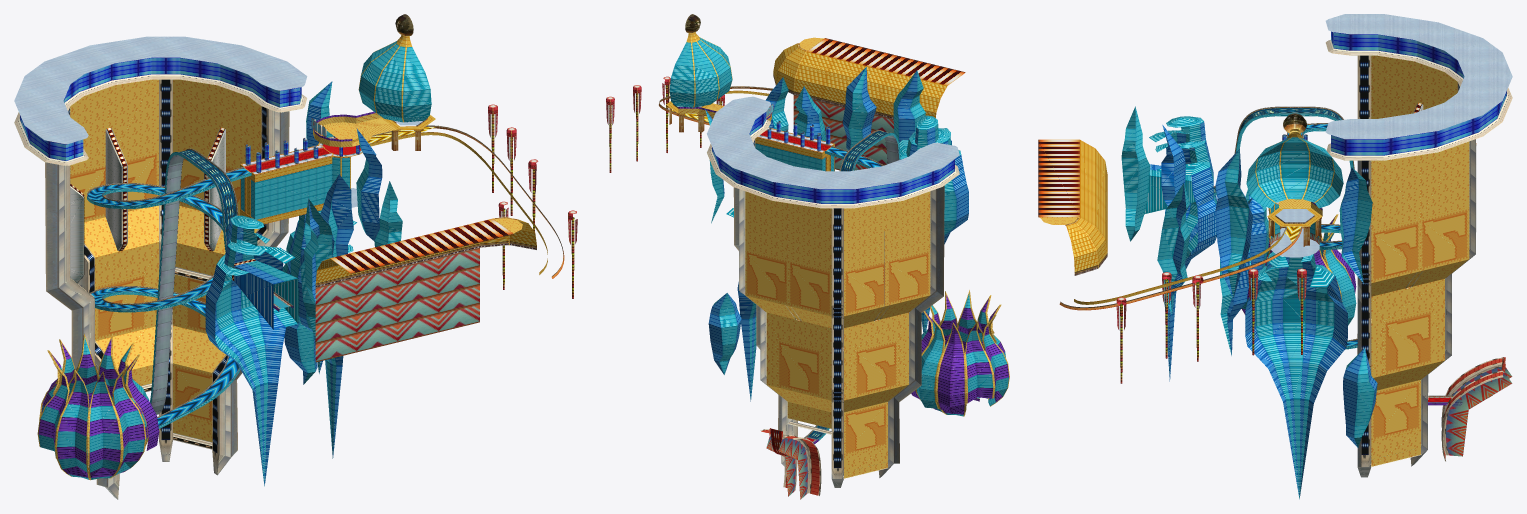
The model's file is Casino_course3.obj.
3 renders of one model, left to right at view 1: azimuth 30°, elevation 25°; view 2: azimuth 150°, elevation 25°; view 3: azimuth 270°, elevation 25°, orthographic. The views are drawn at different scales.
Visible parts, largest first — view 1: obj1, Object_2, obj2; view 2: obj1, obj2, Object_2; view 3: obj1, Object_2, obj2.
Boxes of the visible parts, left/top/right/bottom form: obj1: left=14, top=14, right=577, bottom=499; Object_2: left=88, top=114, right=574, bottom=425; obj2: left=87, top=144, right=360, bottom=454; obj1: left=606, top=14, right=1009, bottom=499; obj2: left=760, top=131, right=979, bottom=456; Object_2: left=609, top=85, right=881, bottom=172; obj1: left=1038, top=14, right=1512, bottom=499; Object_2: left=1120, top=124, right=1357, bottom=383; obj2: left=1213, top=108, right=1503, bottom=401.
Bounding box in the file's own units: 7400 × 6948 × 6836.
